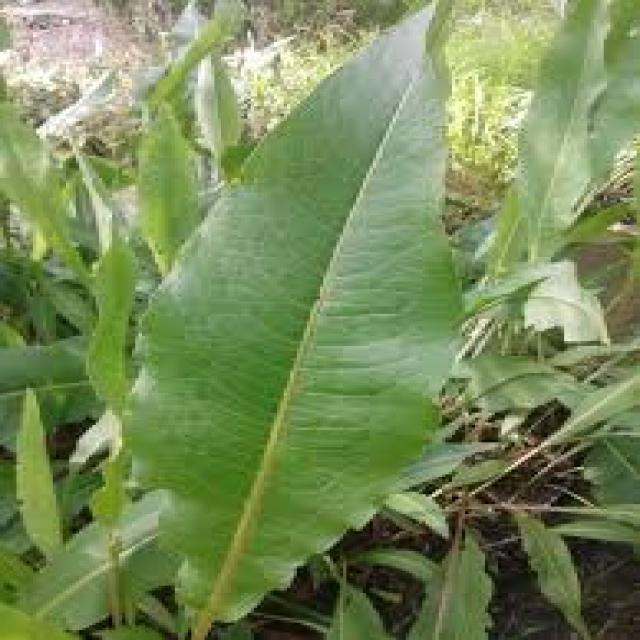organic waste: (79, 15, 531, 620)
